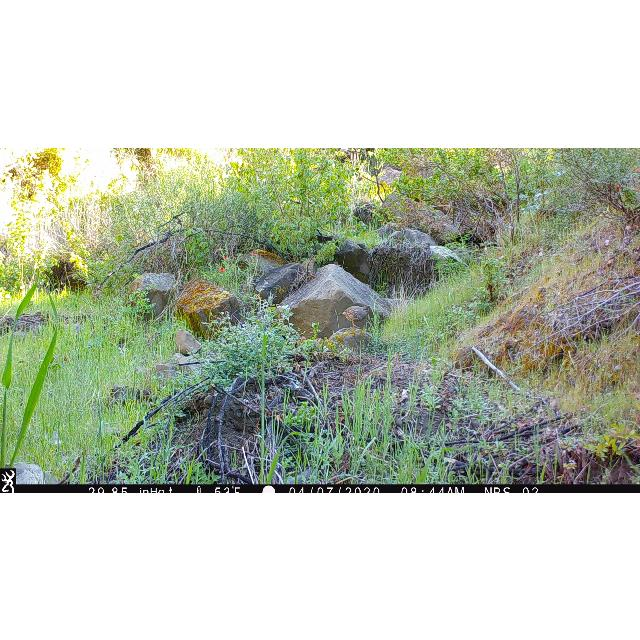animals: (338, 302, 372, 326)
